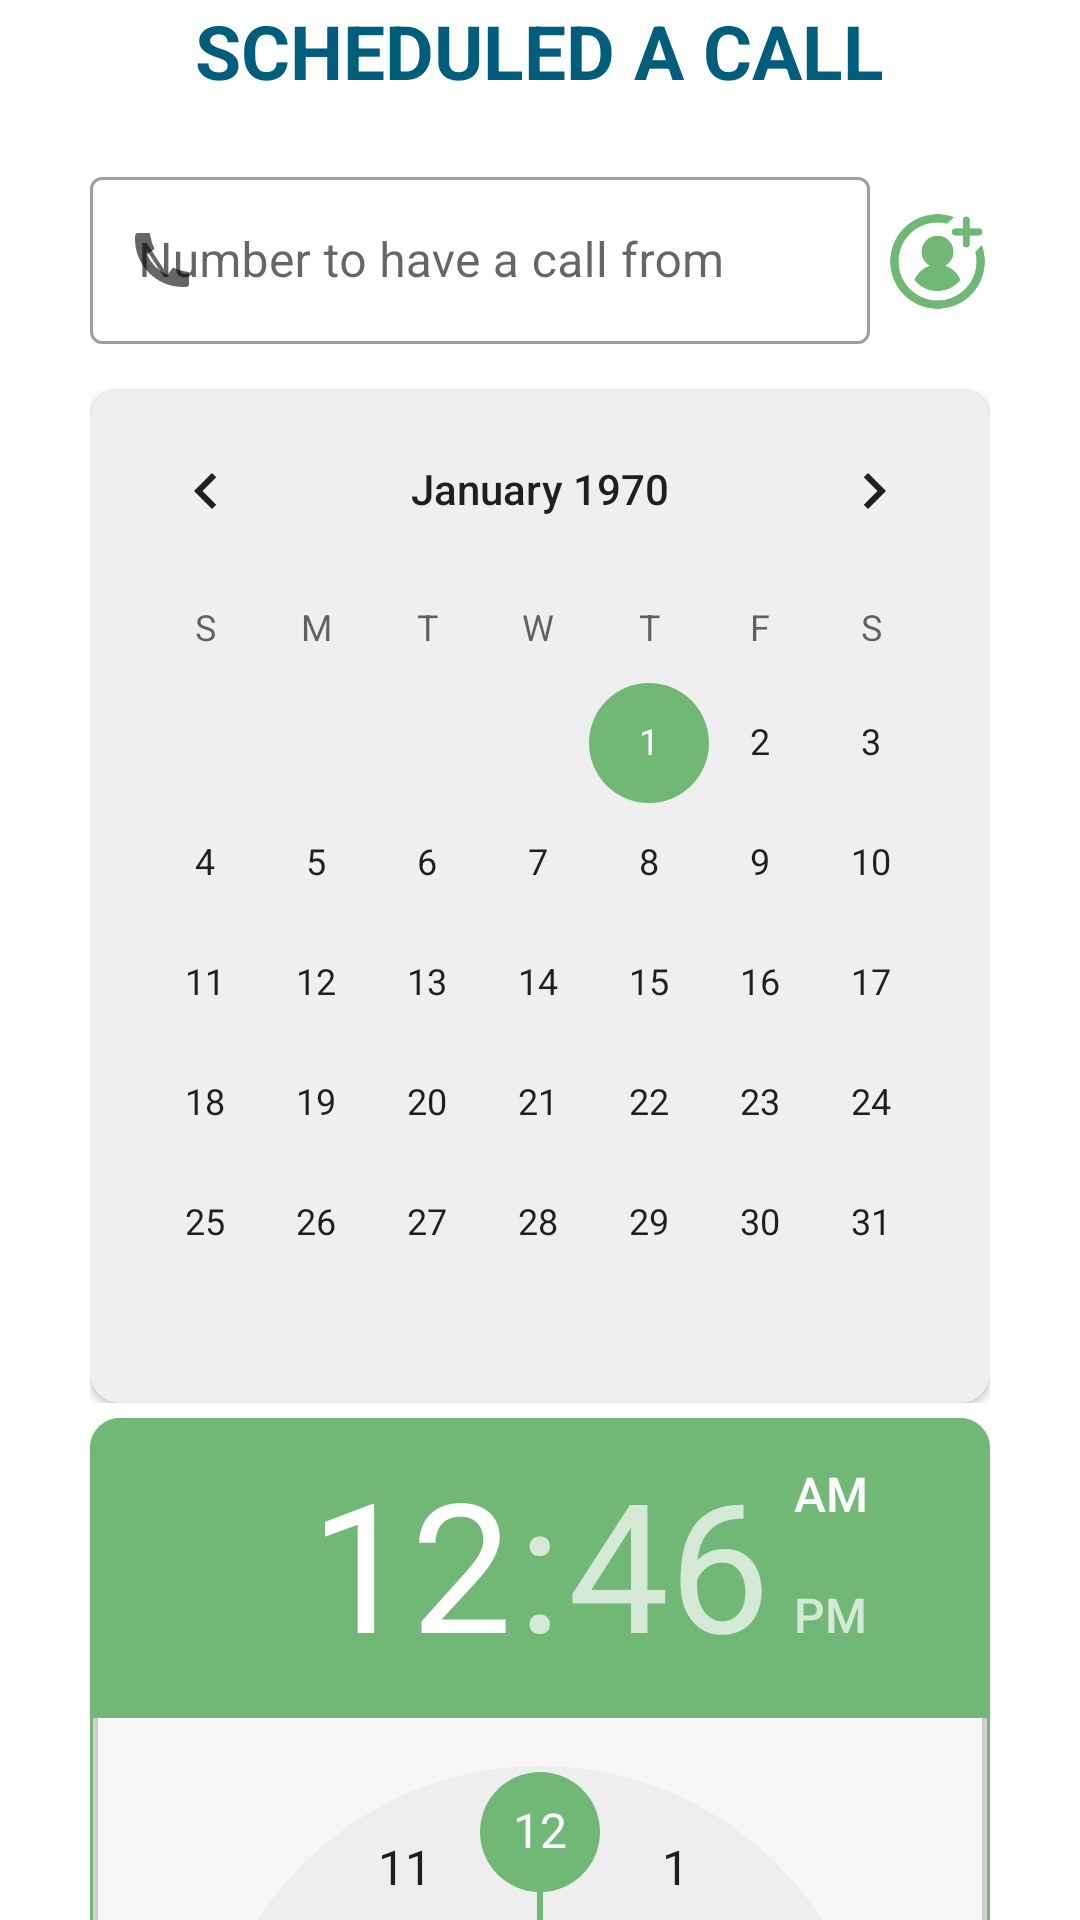

Named icons in this screenshot (1080px×1920px) and their centers, point (x, y):
contact add: point (937, 261)
